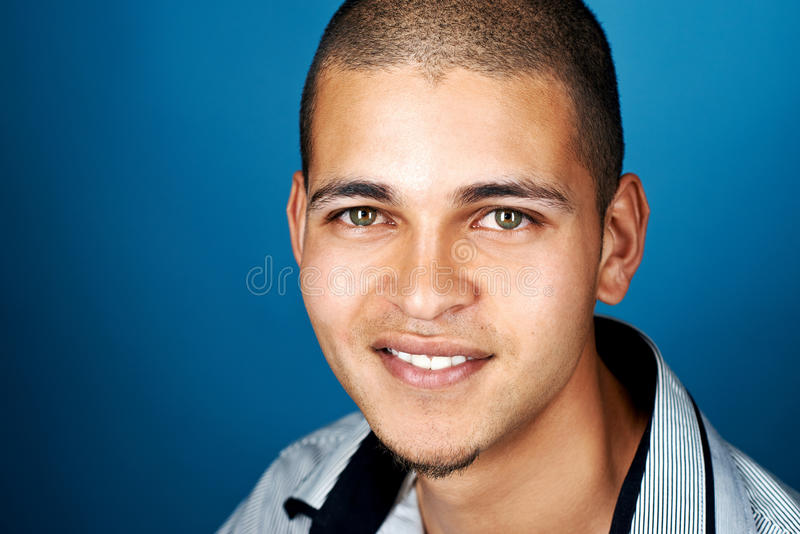No Mask: (287, 242, 590, 455)
